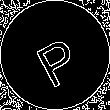P_NW: (27, 24, 83, 86)
